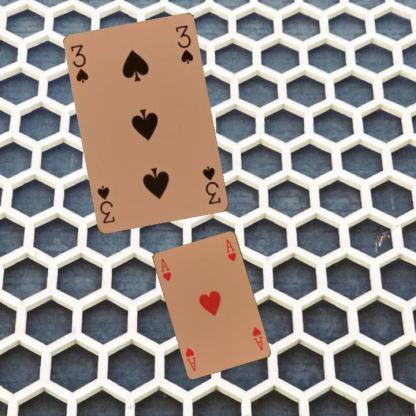3s: (200, 164, 223, 206), (68, 42, 90, 85)
Ah: (249, 324, 264, 352), (158, 256, 172, 283)
